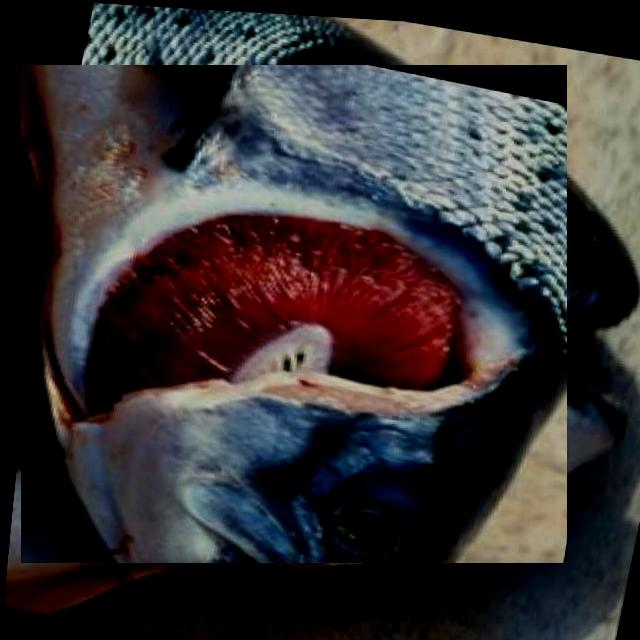Gill Disease: (33, 52, 556, 575)
